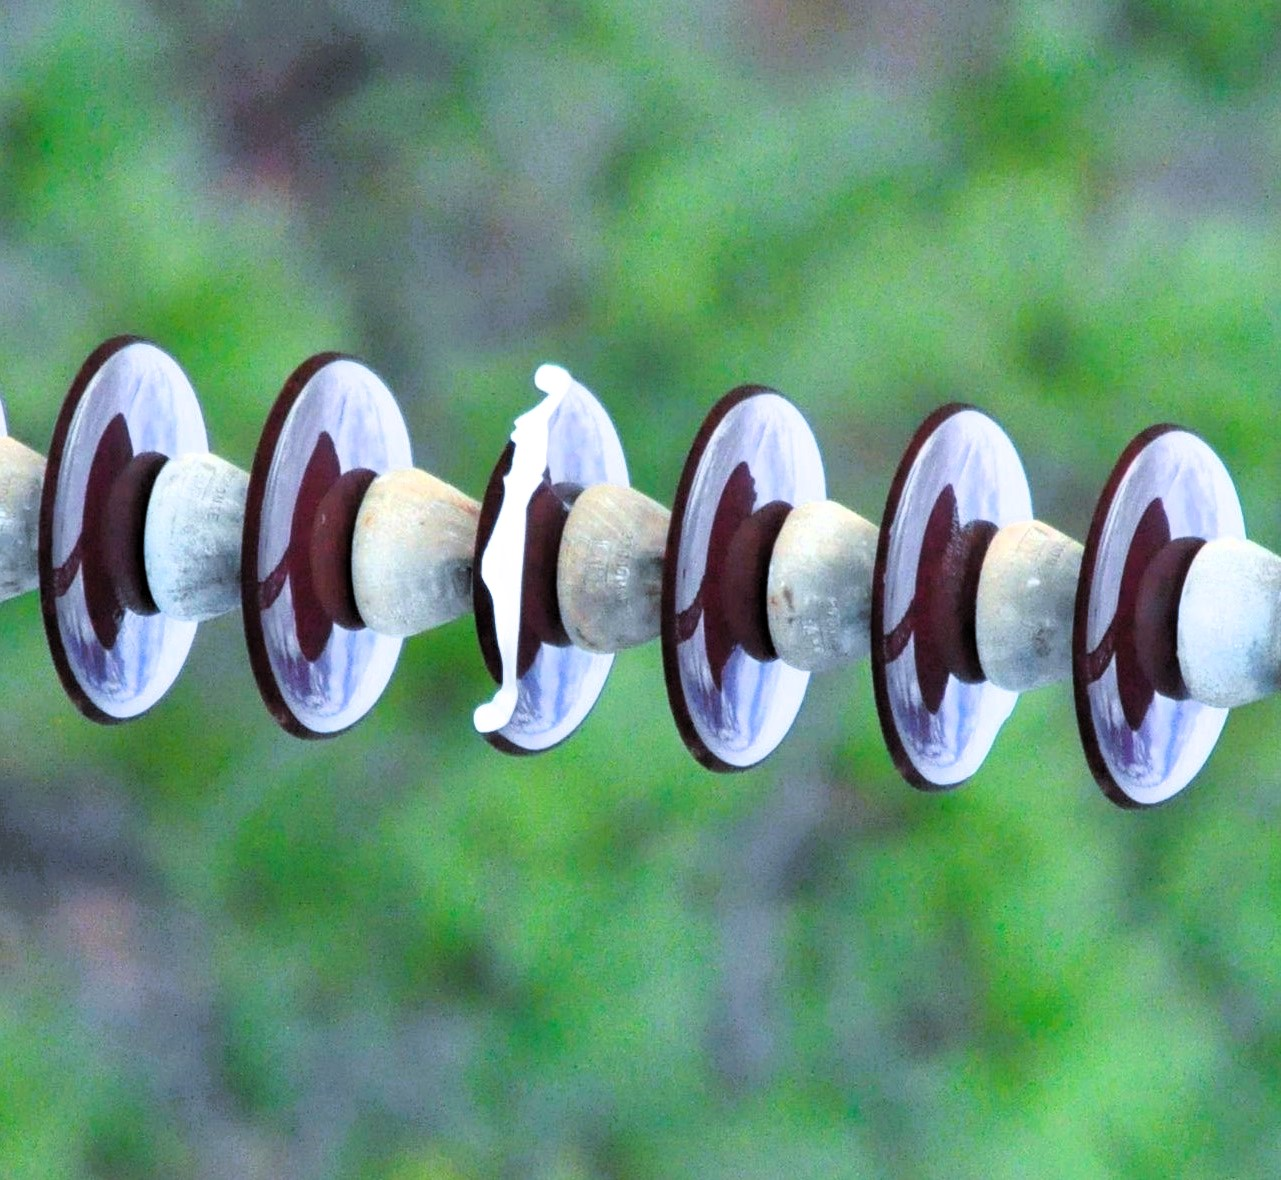insulator breakage: (462, 343, 652, 788)
